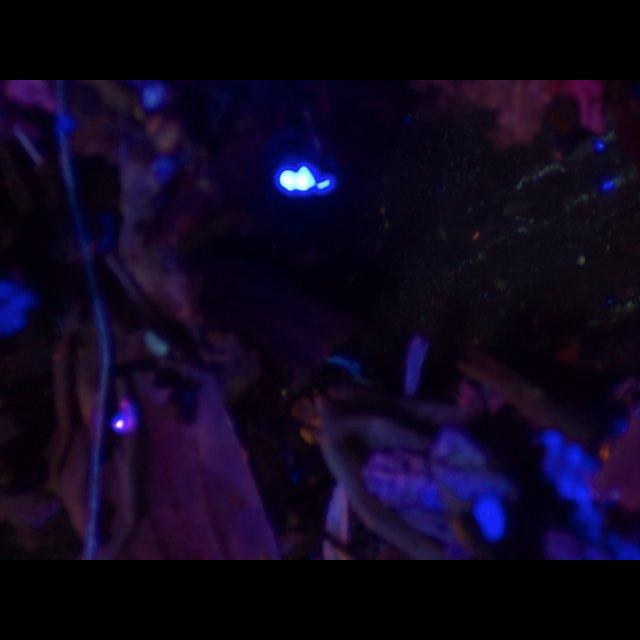microbeads: (576, 252, 588, 266)
